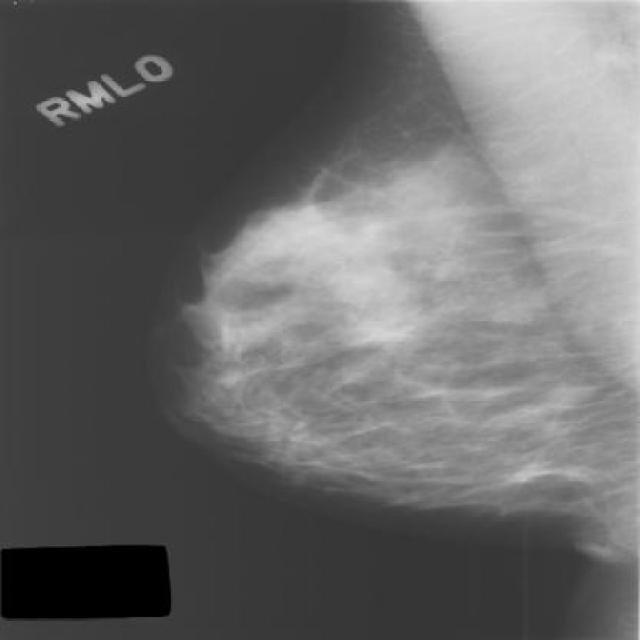tumor: (200, 186, 466, 353)
